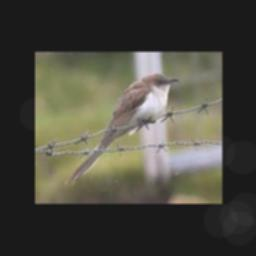Cuckoo: (64, 73, 179, 185)
